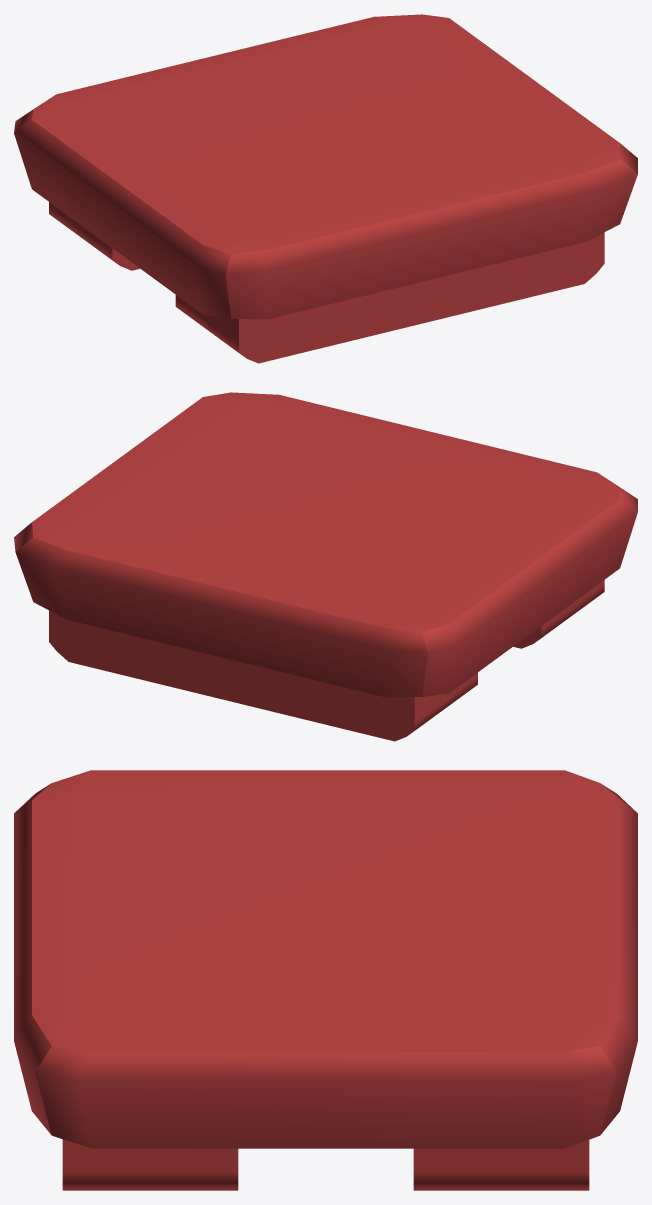
File: bottomtank.fbx
3 renders of one model, top to bottom at view 1: azimuth 30°, elevation 25°; view 2: azimuth 150°, elevation 25°; view 3: azimuth 270°, elevation 25°, orthographic. The views are drawn at different scales.
Visible parts, largest first — view 1: pCube4, pCube5, pCube1; view 2: pCube4, pCube1, pCube5; view 3: pCube4, pCube5, pCube1.
Boxes of the visible parts, bbox=[...] form: pCube4: bbox=[14, 14, 637, 319]; pCube5: bbox=[175, 232, 604, 363]; pCube1: bbox=[49, 202, 139, 270]; pCube4: bbox=[14, 392, 637, 697]; pCube1: bbox=[49, 610, 477, 741]; pCube5: bbox=[513, 580, 604, 648]; pCube4: bbox=[14, 770, 637, 1148]; pCube5: bbox=[62, 1139, 238, 1190]; pCube1: bbox=[413, 1140, 589, 1190].
Bounding box in the file's own units: 12.1 × 3.25 × 10.67.
